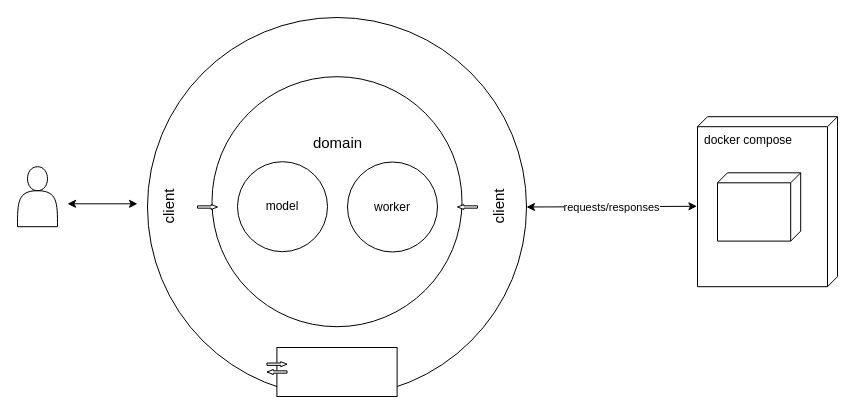
Some shapes in this 855 by 415 pixel diagram are drawn without their labels. Here are the shapes that lost their labels. From the top down, the centre of each, then its label:
At point 758,206: "israpp".
At point 336,371: "configuration".
